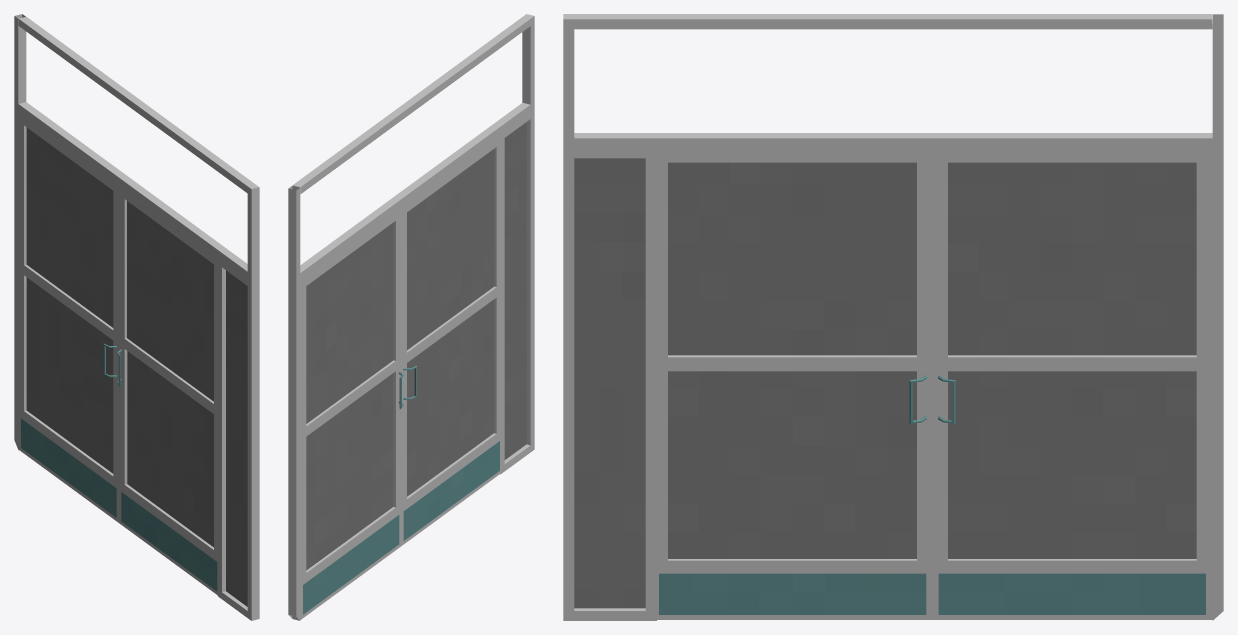
Rendered from SW_corridor__R_lobby_R_Aula_Kautava1_Ikkuna_006.FBX.
3 views of the same model, side by side, from view 1: azimuth 30°, elevation 25°; view 2: azimuth 150°, elevation 25°; view 3: azimuth 270°, elevation 25° (orthographic). The views are drawn at different scales.
Visible parts, largest first — view 1: SW_corridor__R_lobby_R_Aula_Kautava1_Ikkuna_006; view 2: SW_corridor__R_lobby_R_Aula_Kautava1_Ikkuna_006; view 3: SW_corridor__R_lobby_R_Aula_Kautava1_Ikkuna_006.
Part boxes in pixels (x1,y1,x2,y2): SW_corridor__R_lobby_R_Aula_Kautava1_Ikkuna_006: (14,14,259,620); SW_corridor__R_lobby_R_Aula_Kautava1_Ikkuna_006: (288,14,534,620); SW_corridor__R_lobby_R_Aula_Kautava1_Ikkuna_006: (563,14,1223,620).
Bounding box in the file's own units: 14.61 × 257 × 258.
